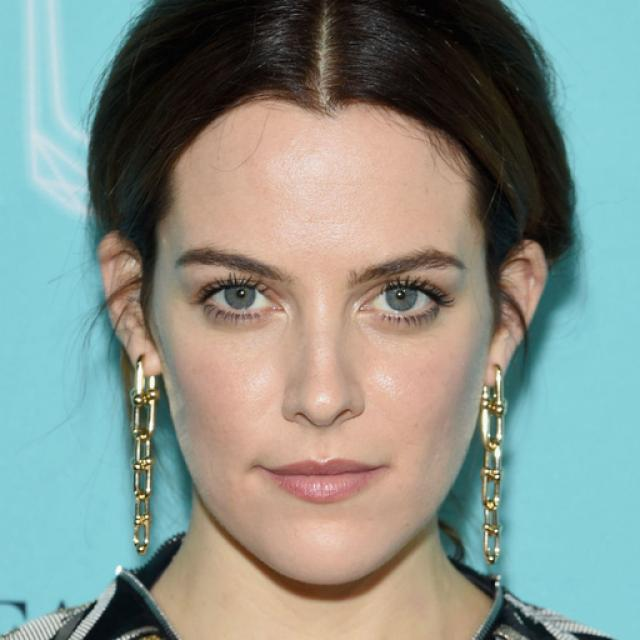content: (154, 104, 488, 586)
